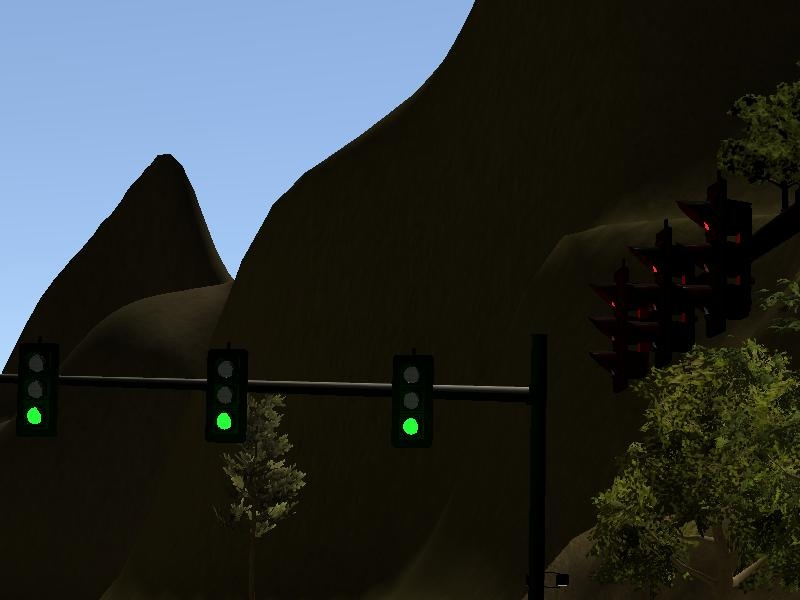GREEN: (204, 348, 247, 441), (389, 354, 432, 447), (15, 346, 55, 432)
